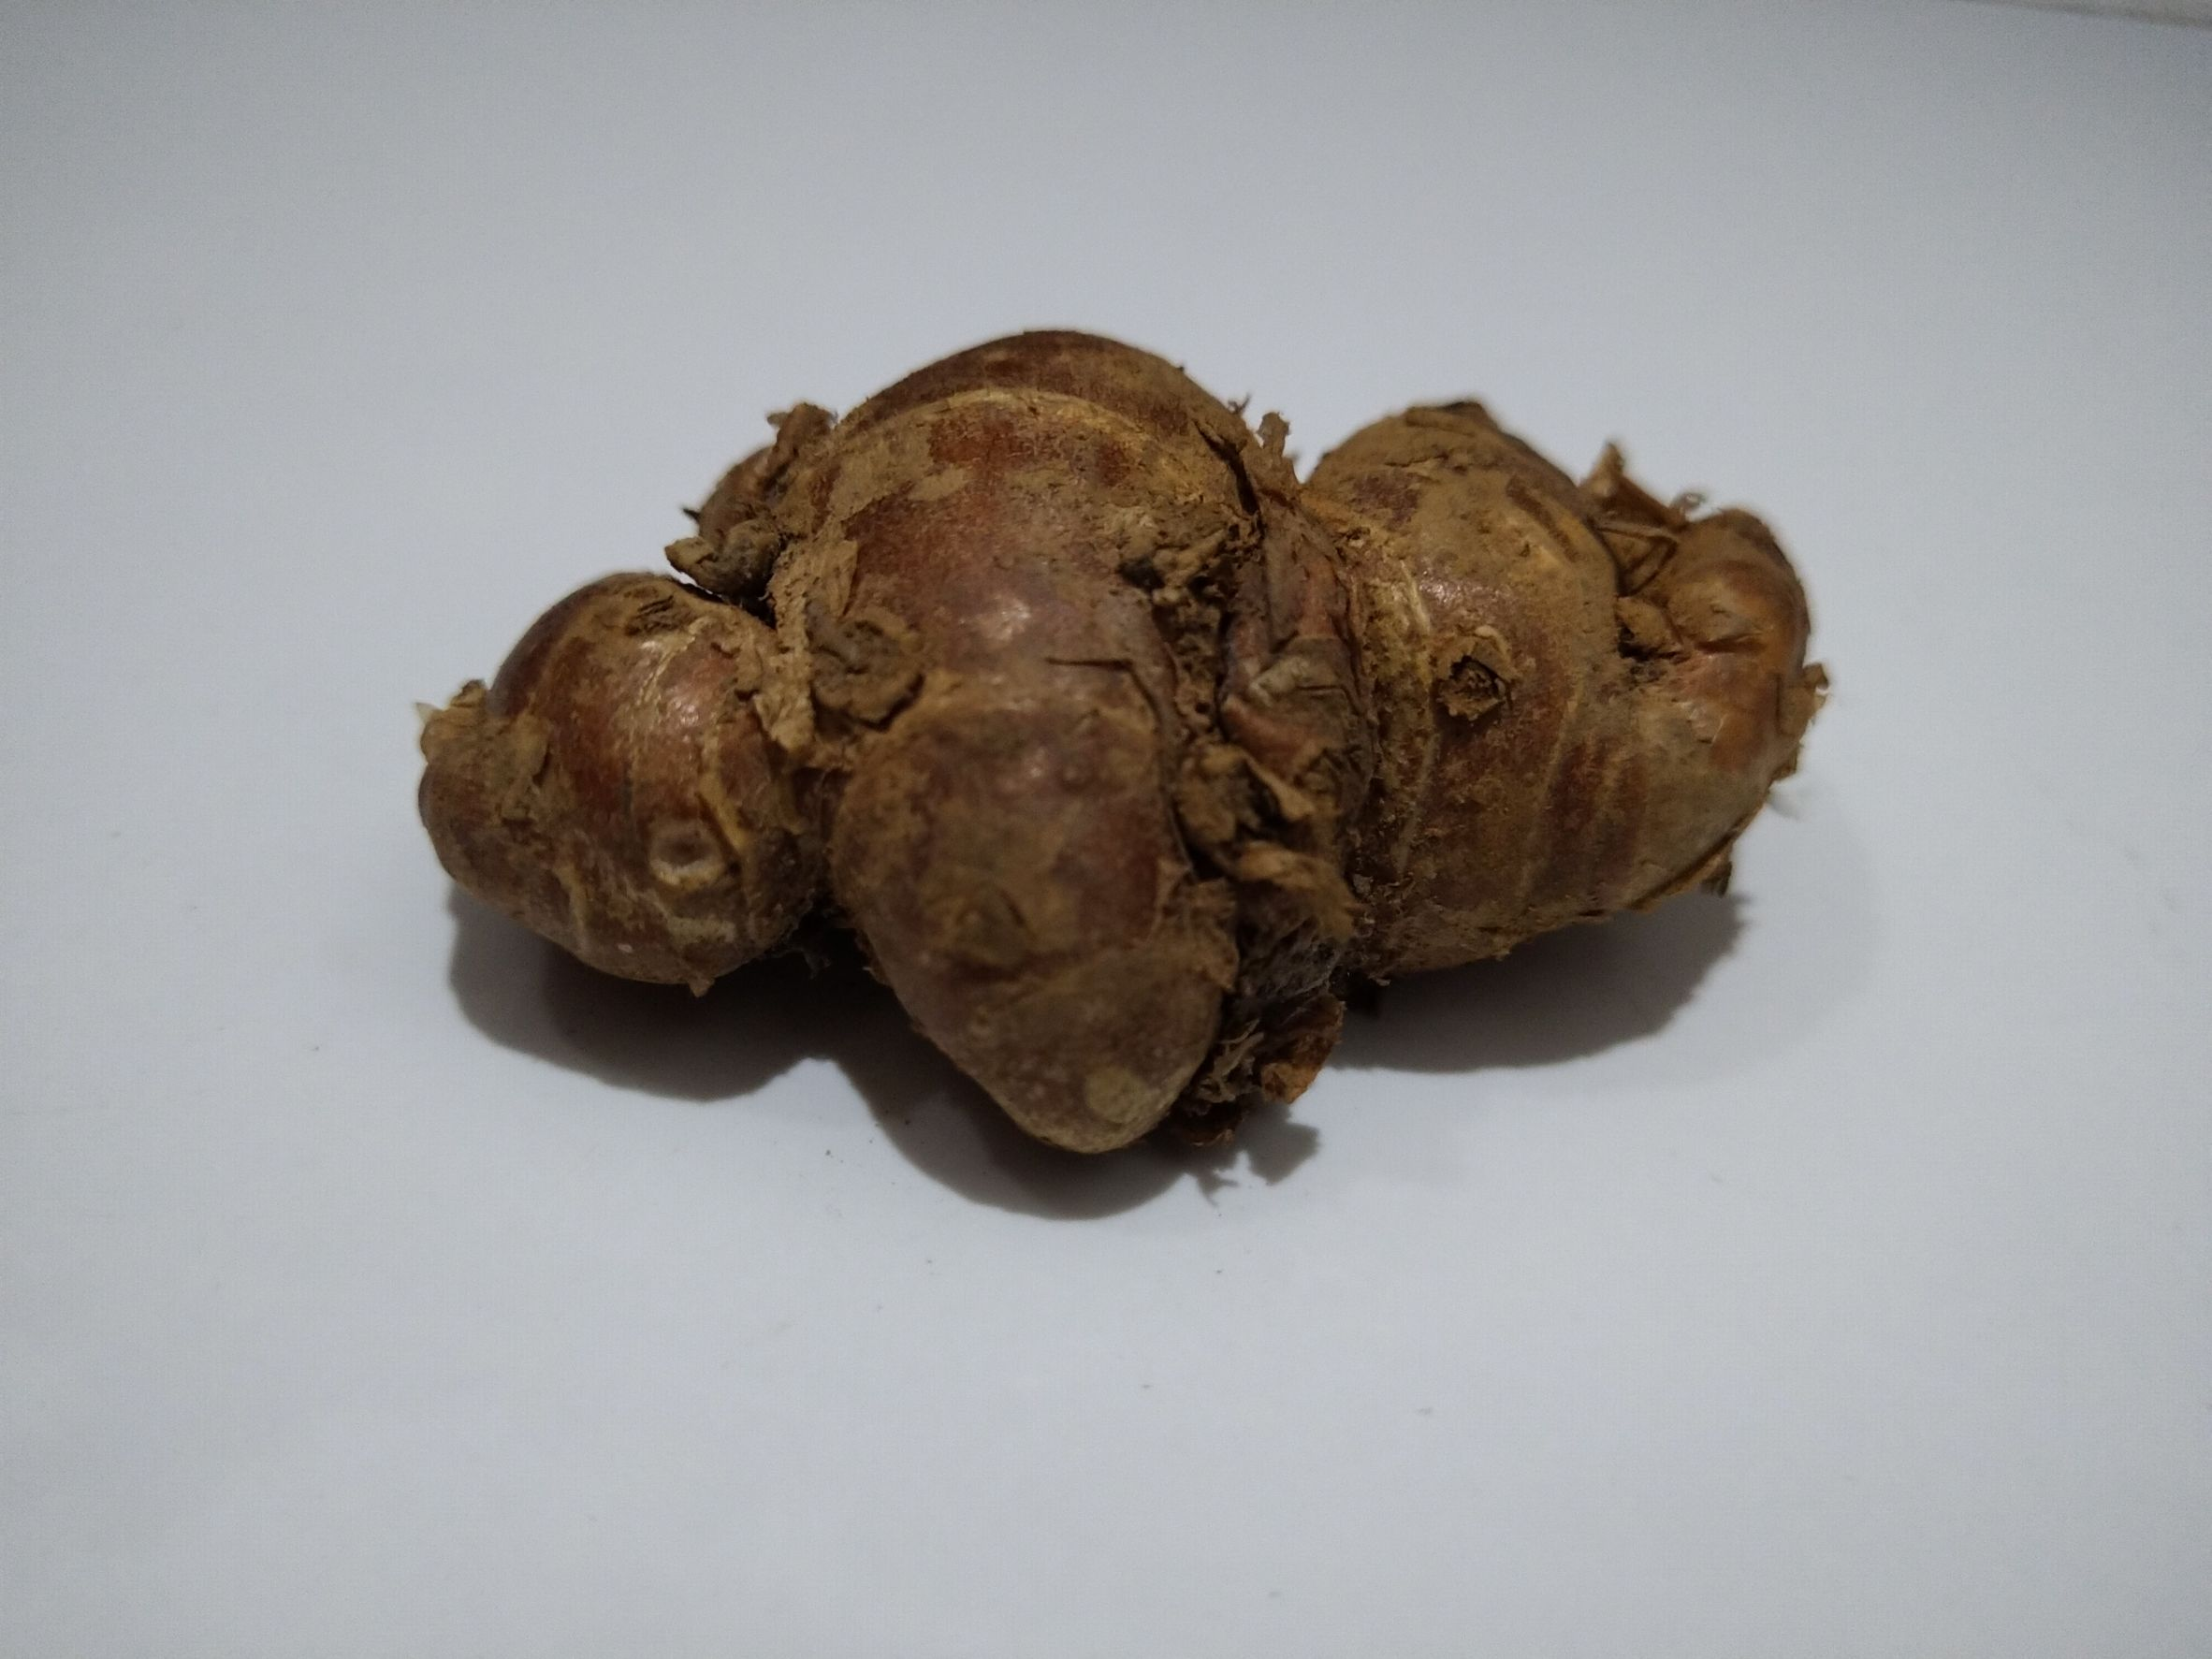Kencur: (409, 336, 1824, 1183)
